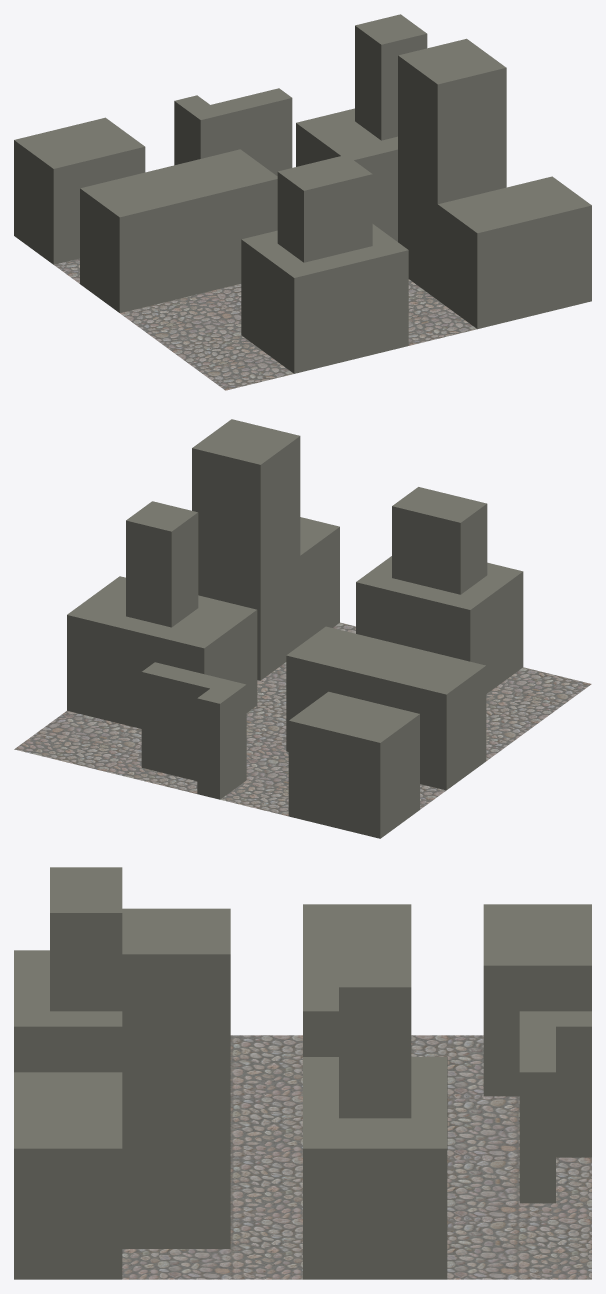
Rendered from Tile2.fbx.
The picture shows the model from 3 angles, top to bottom: view 1: azimuth 30°, elevation 25°; view 2: azimuth 150°, elevation 25°; view 3: azimuth 270°, elevation 25°; orthographic projection. The views are drawn at different scales.
Visible parts, largest first — view 1: Tile2; view 2: Tile2; view 3: Tile2.
Part boxes in pixels (left/top/right/bottom): Tile2: left=14, top=14, right=591, bottom=390; Tile2: left=14, top=419, right=591, bottom=838; Tile2: left=14, top=867, right=591, bottom=1279.
Bounding box in the file's own units: 1600 × 900 × 1600.
